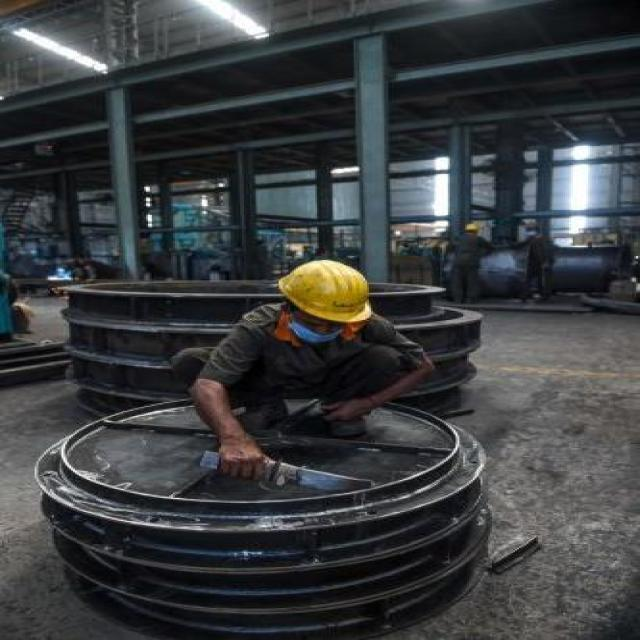Safety-Helmet: (269, 254, 383, 325)
